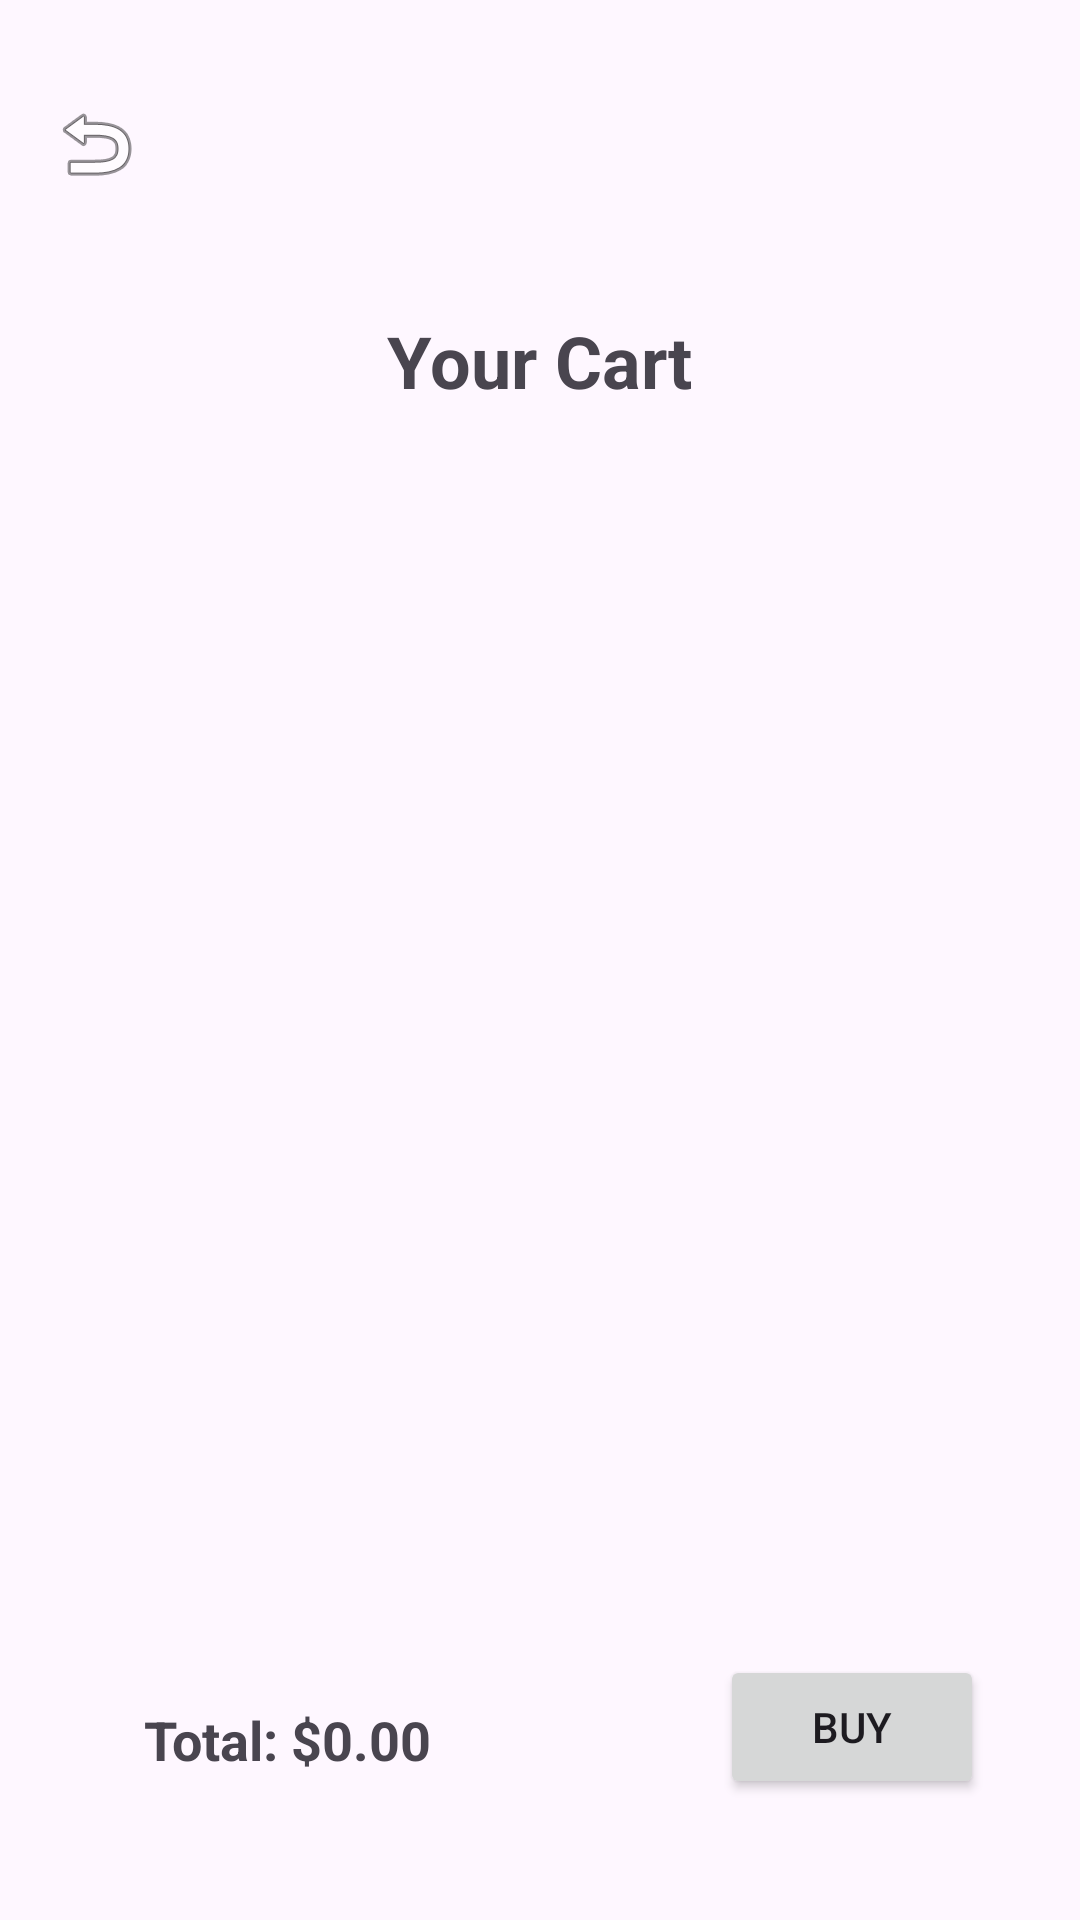

Icon bounding boxes for this 1080*1920 phone screenshot, format bbox(x1, y1, x2, y2):
Back: bbox(63, 113, 132, 176)
